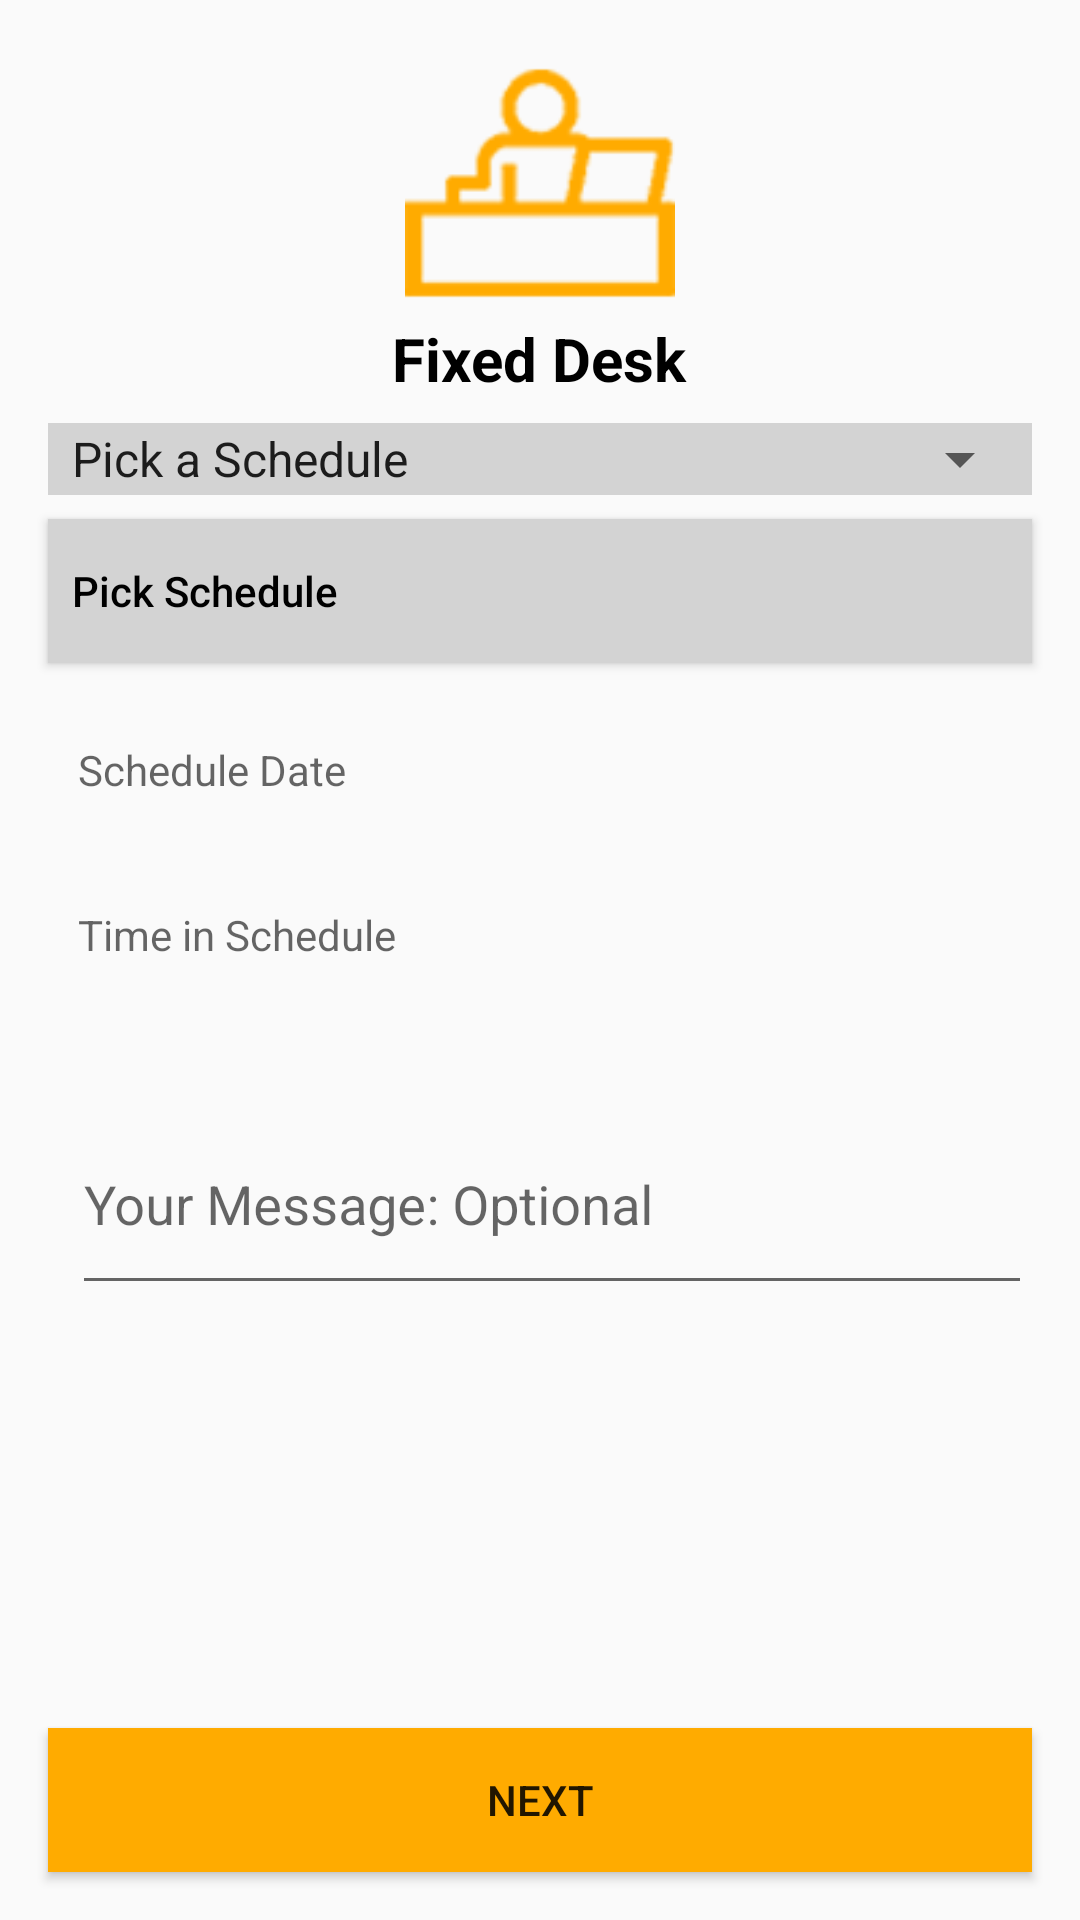

Where to tap for icons on this 1080 × 1920 app screen, as (x=x, y=y):
privatespace: (x=540, y=183)
